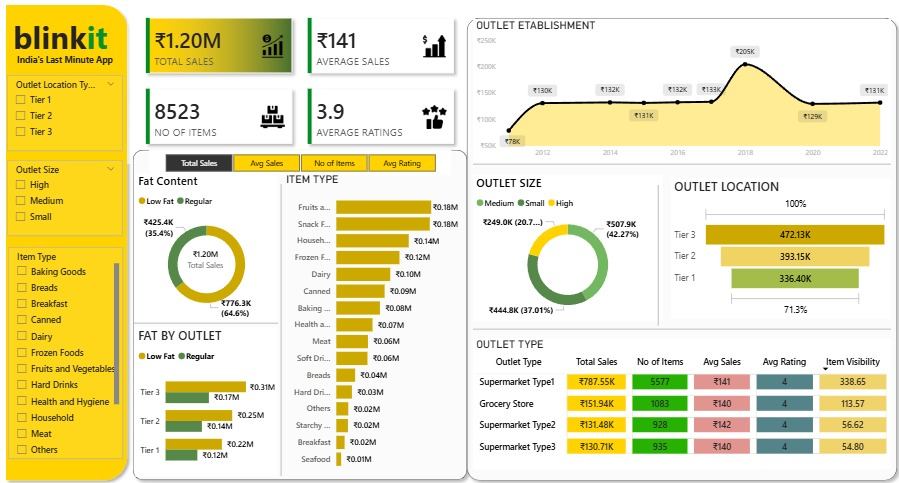

What the dashboard file says about the page in this screenshot:
{"tool":"powerbi","page":{"name":"Page 1","canvas":[1400,800],"ordinal":0},"visuals":[{"type":"shape","box":[10,0,205,750],"z":0},{"type":"textbox","box":[26.8,20.5,159.1,75.6],"z":1000},{"type":"textbox","box":[15.7,80.3,190.6,31.5],"z":2000},{"type":"cardVisual","fields":{"Data":["BlinkIT Grocery Data.Total Sales","BlinkIT Grocery Data.Avg Sales","BlinkIT Grocery Data.No of Items","BlinkIT Grocery Data.Avg Rating"]},"box":[206.3,0,532.3,253.5],"z":3000},{"type":"shape","box":[206.3,223.6,532.3,526],"z":4000},{"type":"donutChart","title":"Fat Content","fields":{"Y":["BlinkIT Grocery Data.Total Sales"],"Category":["BlinkIT Grocery Data.Item Fat Content"]},"box":[218.3,268.3,220,230],"z":5000},{"type":"slicer","fields":{"Values":["Metrics 3.Metrics"]},"box":[239.4,233.1,464.6,39.4],"z":6000},{"type":"cardVisual","fields":{"Data":["BlinkIT Grocery Data.Total Sales"]},"box":[268.3,365,118.3,71.7],"z":7000},{"type":"clusteredBarChart","title":"FAT BY OUTLET","fields":{"Y":["BlinkIT Grocery Data.Total Sales"],"Category":["BlinkIT Grocery Data.Outlet Location Type"],"Series":["BlinkIT Grocery Data.Item Fat Content"]},"box":[218.9,503.9,220.5,229.9],"z":8000},{"type":"shape","box":[216.7,455,221.7,86.7],"z":9000},{"type":"shape","box":[434.6,285,15.7,448.8],"z":10000},{"type":"barChart","title":"ITEM TYPE","fields":{"Y":["BlinkIT Grocery Data.Total Sales"],"Category":["BlinkIT Grocery Data.Item Type"]},"box":[445.7,267.7,274,466.1],"z":11000},{"type":"shape","box":[720,20,680,730],"z":12000},{"type":"lineChart","title":"OUTLET ETABLISHMENT","fields":{"Y":["BlinkIT Grocery Data.Total Sales"],"Category":["BlinkIT Grocery Data.Outlet Establishment Year"]},"box":[738.3,30,643.3,223.3],"z":13000},{"type":"donutChart","title":"OUTLET SIZE","fields":{"Y":["BlinkIT Grocery Data.Total Sales"],"Category":["BlinkIT Grocery Data.Outlet Size"]},"box":[738.3,270,291.7,225],"z":14000},{"type":"shape","box":[1016.7,286.7,13.3,216.7],"z":15000},{"type":"funnel","title":"OUTLET LOCATION","fields":{"Category":["BlinkIT Grocery Data.Outlet Location Type"],"Y":["Sum(BlinkIT Grocery Data.Sales)"]},"box":[1043.3,275,338.3,216.7],"z":16000},{"type":"shape","box":[738.3,465,643.3,86.7],"z":17000},{"type":"pivotTable","title":"OUTLET TYPE","fields":{"Rows":["BlinkIT Grocery Data.Outlet Type"],"Values":["BlinkIT Grocery Data.Total Sales","BlinkIT Grocery Data.No of Items","BlinkIT Grocery Data.Avg Sales","BlinkIT Grocery Data.Avg Rating","Sum(BlinkIT Grocery Data.Item Visibility)"]},"box":[738.3,521.7,643.3,201.7],"z":18000},{"type":"shape","box":[738.3,210,643.3,86.7],"z":19000},{"type":"slicer","fields":{"Values":["BlinkIT Grocery Data.Outlet Location Type"]},"box":[21.7,116.7,178.3,116.7],"z":20000},{"type":"slicer","fields":{"Values":["BlinkIT Grocery Data.Outlet Size"]},"box":[21.7,248.3,178.3,116.7],"z":21000},{"type":"slicer","fields":{"Values":["BlinkIT Grocery Data.Item Type"]},"box":[23.3,381.7,176.7,341.7],"z":22000}]}

Visuals, with their boxes on the page's 1400x800 design canvas (x1, y1, x2, y2). These are canvas units, not pixel positions in the 899x483 screenshot, which may show the page scaled, cropped or inside an application window:
shape: (x1=10, y1=0, x2=215, y2=750)
textbox: (x1=27, y1=20, x2=186, y2=96)
textbox: (x1=16, y1=80, x2=206, y2=112)
cardVisual - BlinkIT Grocery Data.Total Sales x BlinkIT Grocery Data.Avg Sales: (x1=206, y1=0, x2=739, y2=254)
shape: (x1=206, y1=224, x2=739, y2=750)
"Fat Content" donutChart: (x1=218, y1=268, x2=438, y2=498)
slicer - Metrics 3.Metrics: (x1=239, y1=233, x2=704, y2=272)
cardVisual - BlinkIT Grocery Data.Total Sales: (x1=268, y1=365, x2=387, y2=437)
"FAT BY OUTLET" clusteredBarChart: (x1=219, y1=504, x2=439, y2=734)
shape: (x1=217, y1=455, x2=438, y2=542)
shape: (x1=435, y1=285, x2=450, y2=734)
"ITEM TYPE" barChart: (x1=446, y1=268, x2=720, y2=734)
shape: (x1=720, y1=20, x2=1400, y2=750)
"OUTLET ETABLISHMENT" lineChart: (x1=738, y1=30, x2=1382, y2=253)
"OUTLET SIZE" donutChart: (x1=738, y1=270, x2=1030, y2=495)
shape: (x1=1017, y1=287, x2=1030, y2=503)
"OUTLET LOCATION" funnel: (x1=1043, y1=275, x2=1382, y2=492)
shape: (x1=738, y1=465, x2=1382, y2=552)
"OUTLET TYPE" pivotTable: (x1=738, y1=522, x2=1382, y2=723)
shape: (x1=738, y1=210, x2=1382, y2=297)
slicer - BlinkIT Grocery Data.Outlet Location Type: (x1=22, y1=117, x2=200, y2=233)
slicer - BlinkIT Grocery Data.Outlet Size: (x1=22, y1=248, x2=200, y2=365)
slicer - BlinkIT Grocery Data.Item Type: (x1=23, y1=382, x2=200, y2=723)
